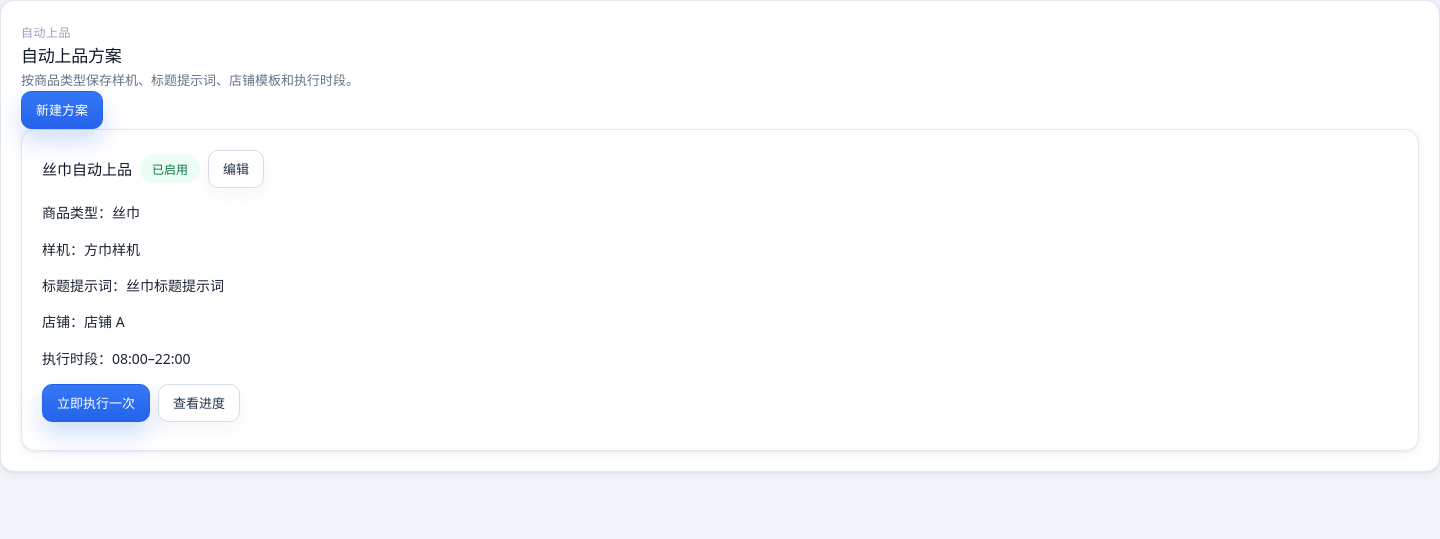
AutoListingPlansPage › shows the local scheduler error instead of a misleading upload-progress message
The width and height of the screenshot is (1440, 539).
Expected: the heading "丝巾自动上品" is shown, [42, 158, 132, 180]
Click the button "立即执行一次" at (96, 403), box [42, 384, 150, 422]
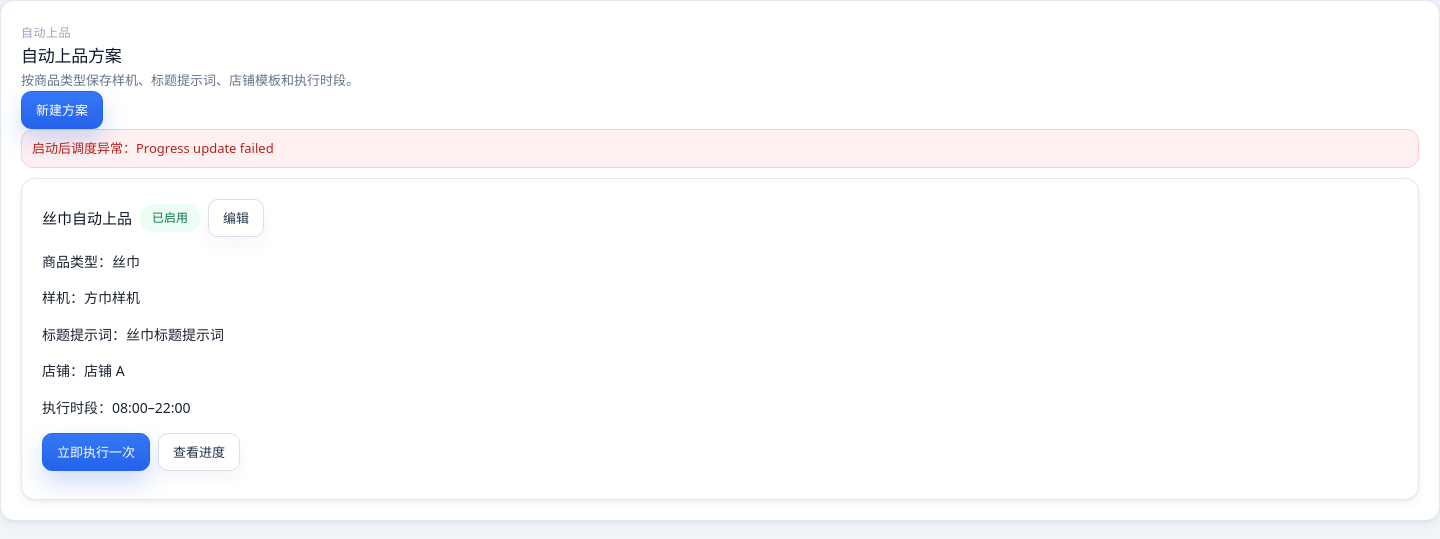
Expected: the text "启动后调度异常：Progress update failed" is shown, [21, 129, 1419, 168]
